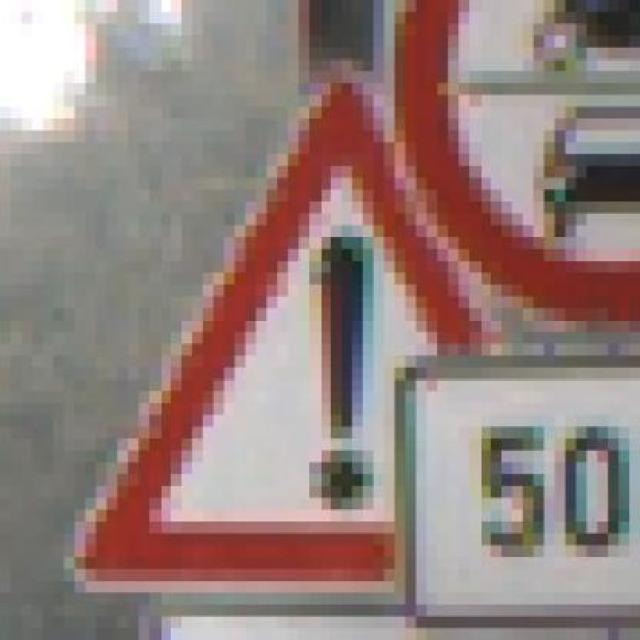Attention Please-: (42, 71, 630, 617)
